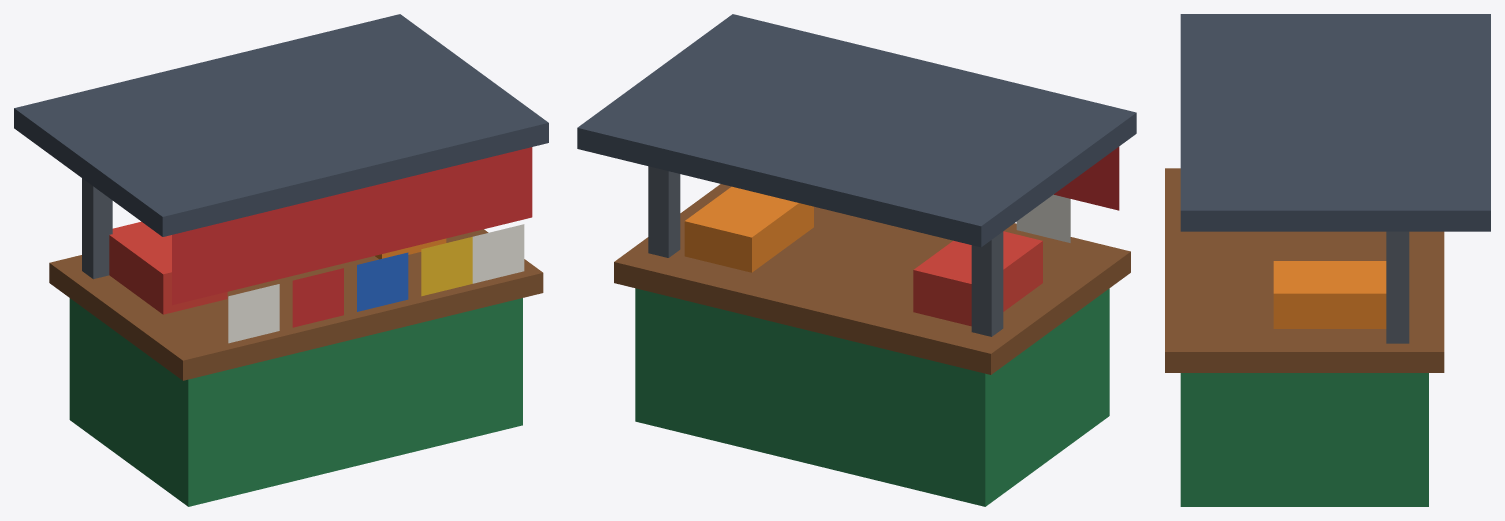
Rendered from newsstand.glb.
3 views of the same model, side by side, from view 1: azimuth 30°, elevation 25°; view 2: azimuth 150°, elevation 25°; view 3: azimuth 270°, elevation 25° (orthographic). The views are drawn at different scales.
Visible parts, largest first — view 1: newsstand; view 2: newsstand; view 3: newsstand.
Boxes of the visible parts, box(x1,y1,x2,y2) form: newsstand: box(14, 14, 548, 506); newsstand: box(577, 14, 1136, 506); newsstand: box(1165, 14, 1490, 506).
Size of the model in its own units: 0.3 by 0.22 by 0.21.
